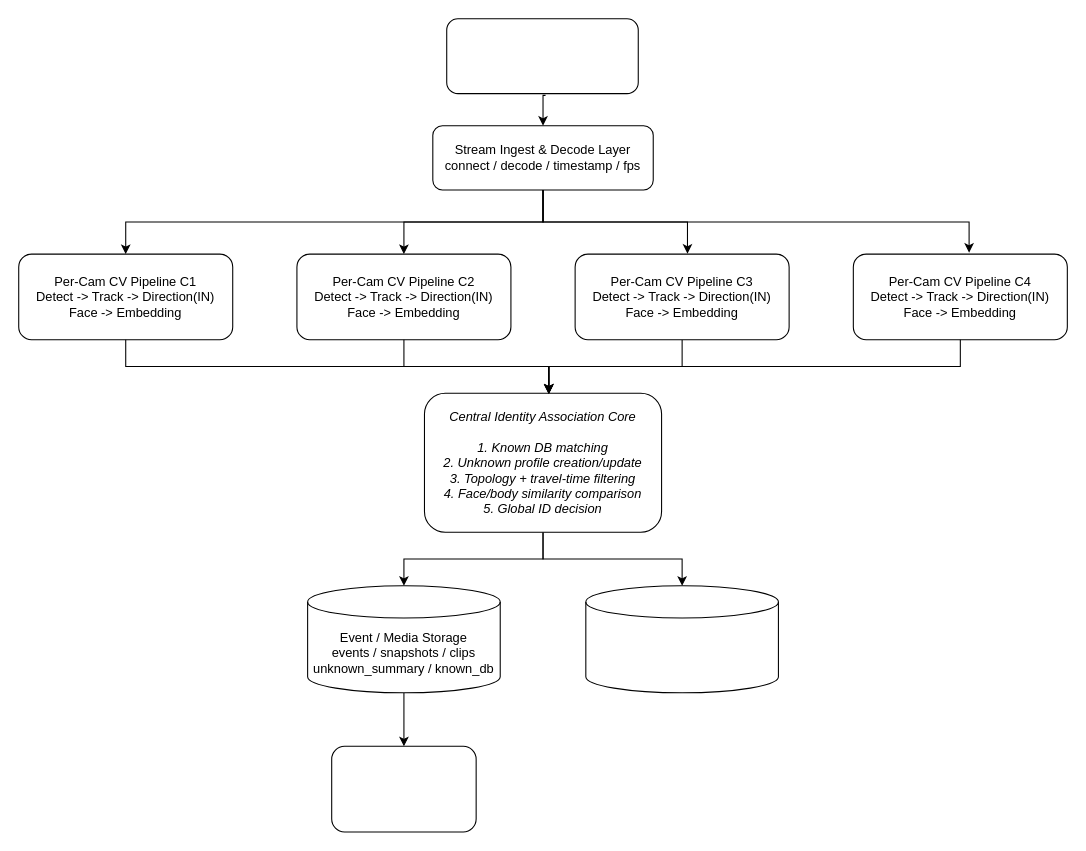
Image size: 1086x851. Some labels were removed from this diagram. The shapes that lost their labels are listed below. From the top down, each one's centre as x and y in pixels, then its label:
At point 542,56: "4 REAL CAMERA STREAMS Cam1 / Cam2 / Cam3 / Cam4 (RTSP)".
At point 681,639: "Topology / Metadata Store camera_map / travel_time ROI / direction rules".
At point 403,788: "Dashboard / API / UI filter by cam/time/ID timeline / snapshots".
